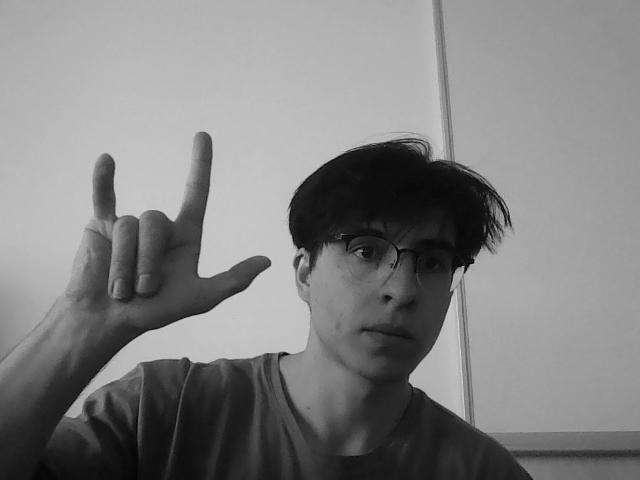I_Love_You: (66, 144, 254, 344)
